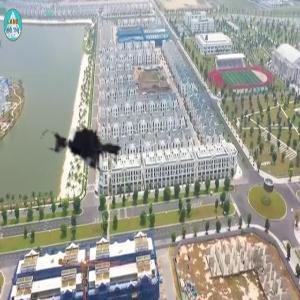drone: (35, 102, 140, 207)
